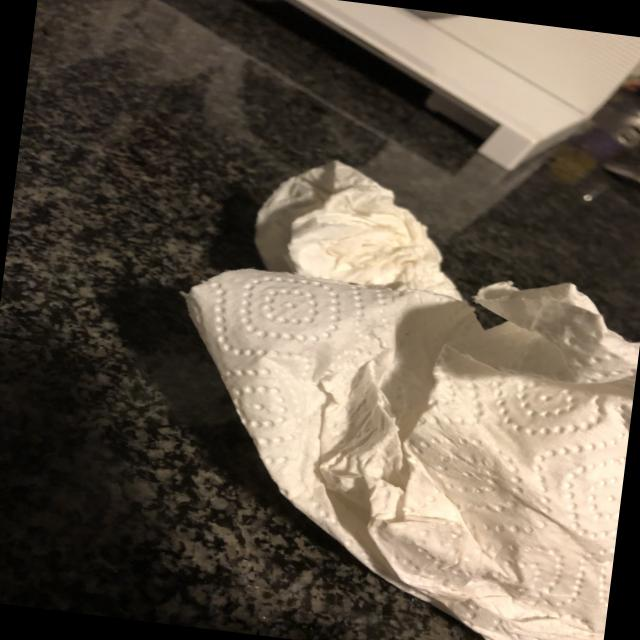organic waste: (142, 237, 640, 640), (246, 149, 477, 297)
